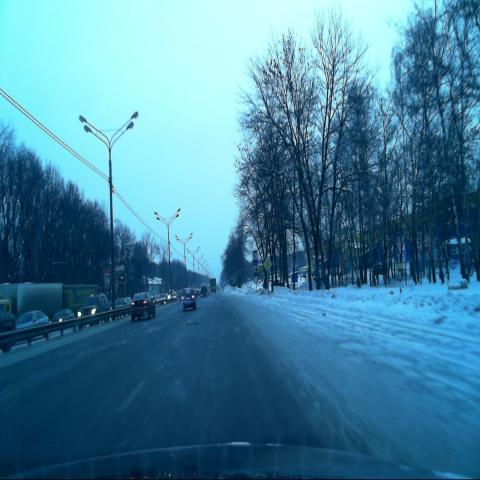2_1: (264, 257, 271, 271)
